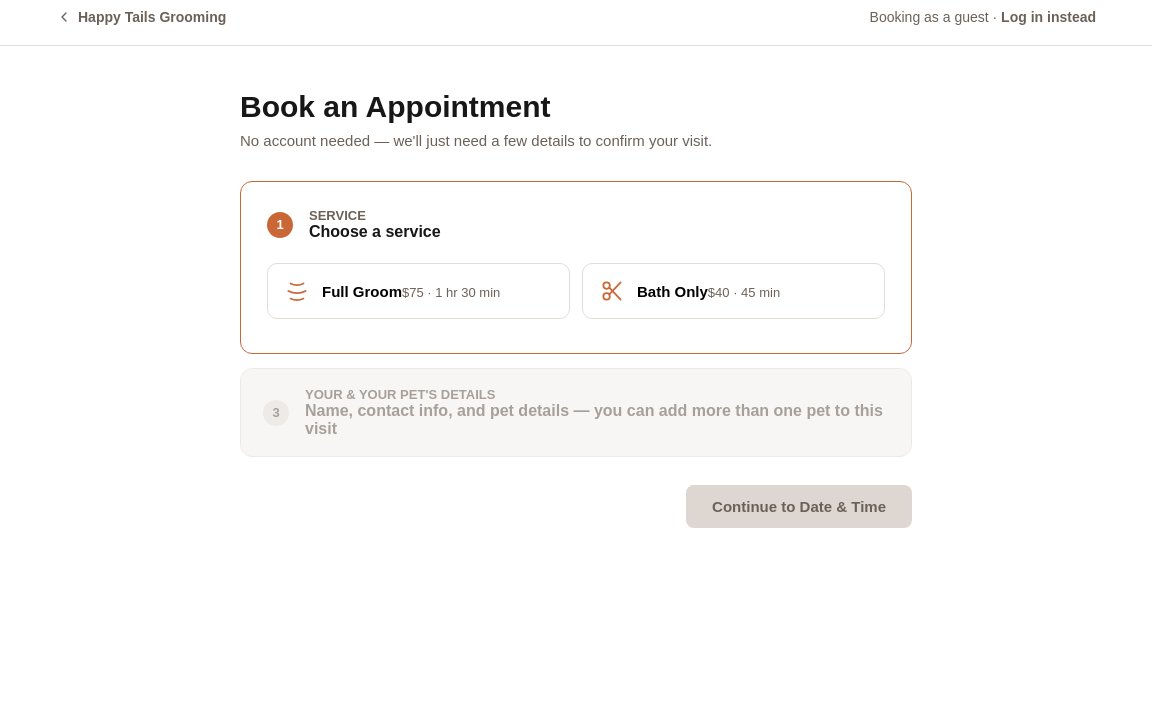
Test: BookingWizard — step state transitions › changing to a different service after a slot was chosen clears the previously selected slot
Click the button "Full Groom$75 · 1 hr 30 min" at (418, 291), box [267,263,570,319]
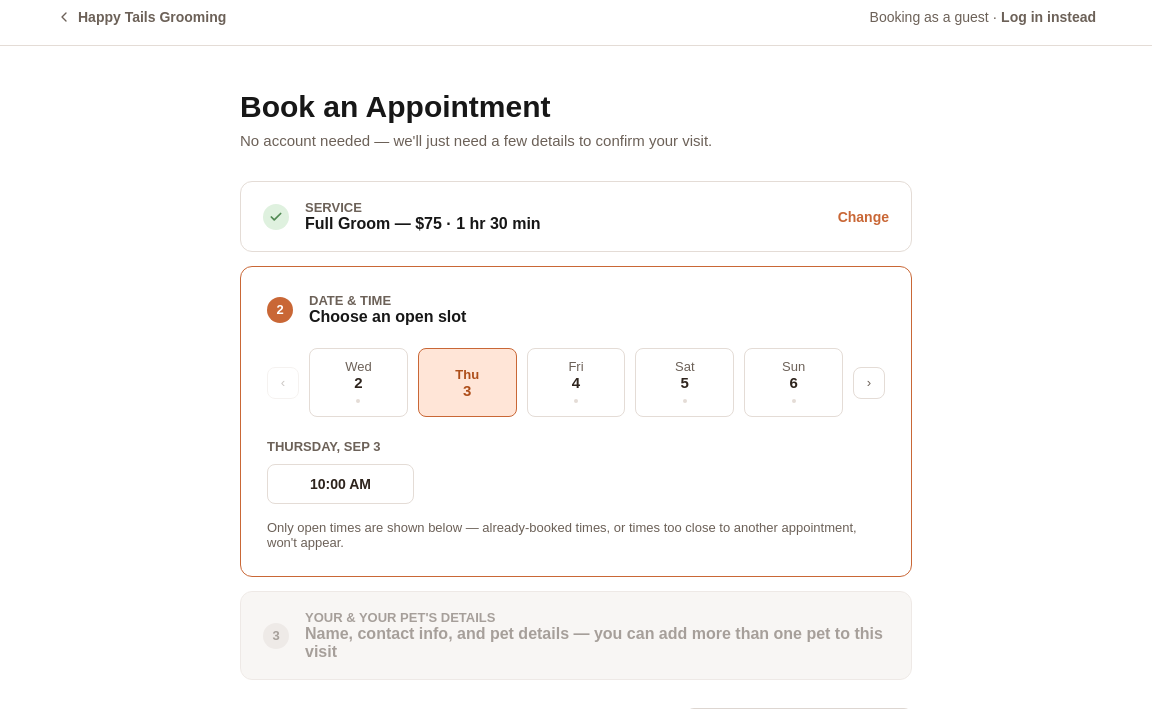
Click the button "10:00 AM" at (340, 484), box [267,464,414,504]
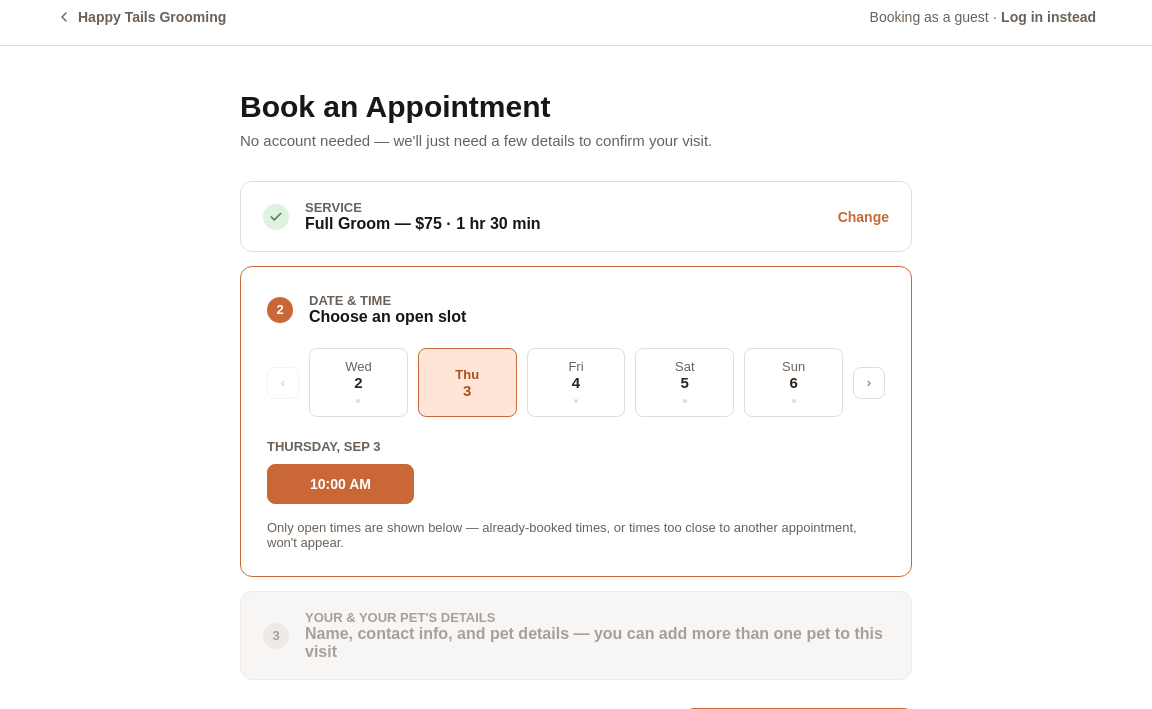
Click the button with test id "booking-wizard-change-service-button" at (863, 216), box [838,208,889,224]
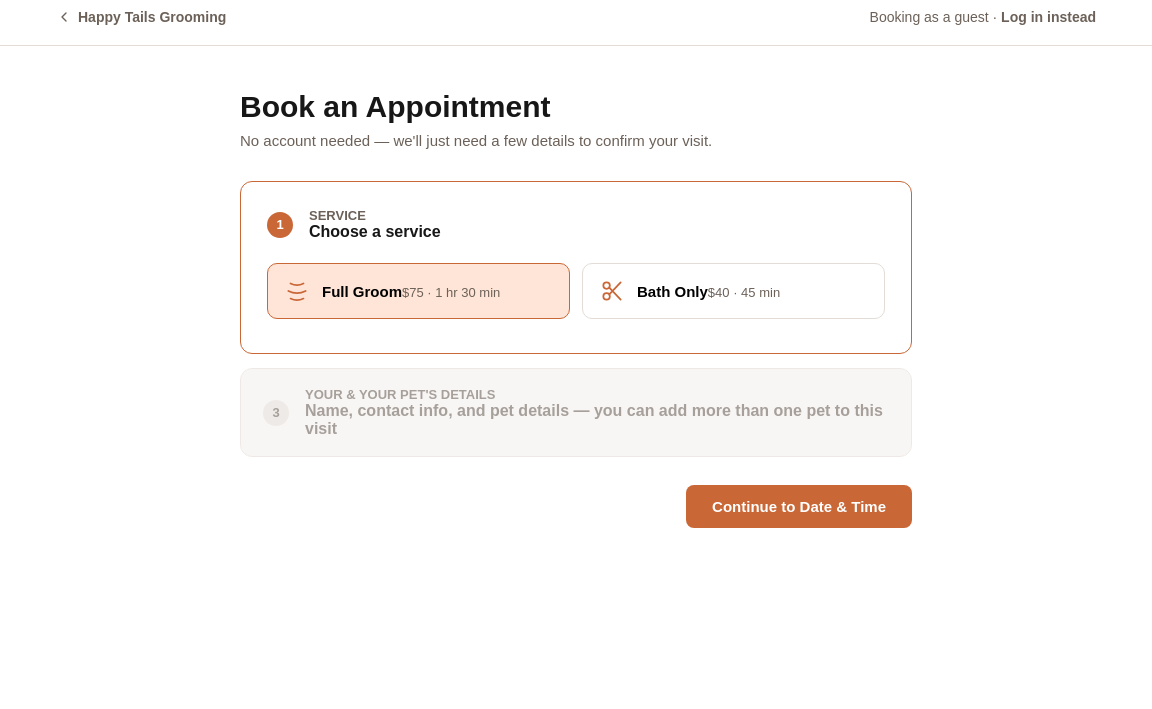
Click the button "Bath Only$40 · 45 min" at (734, 291), box [582,263,885,319]
(page scrolled)
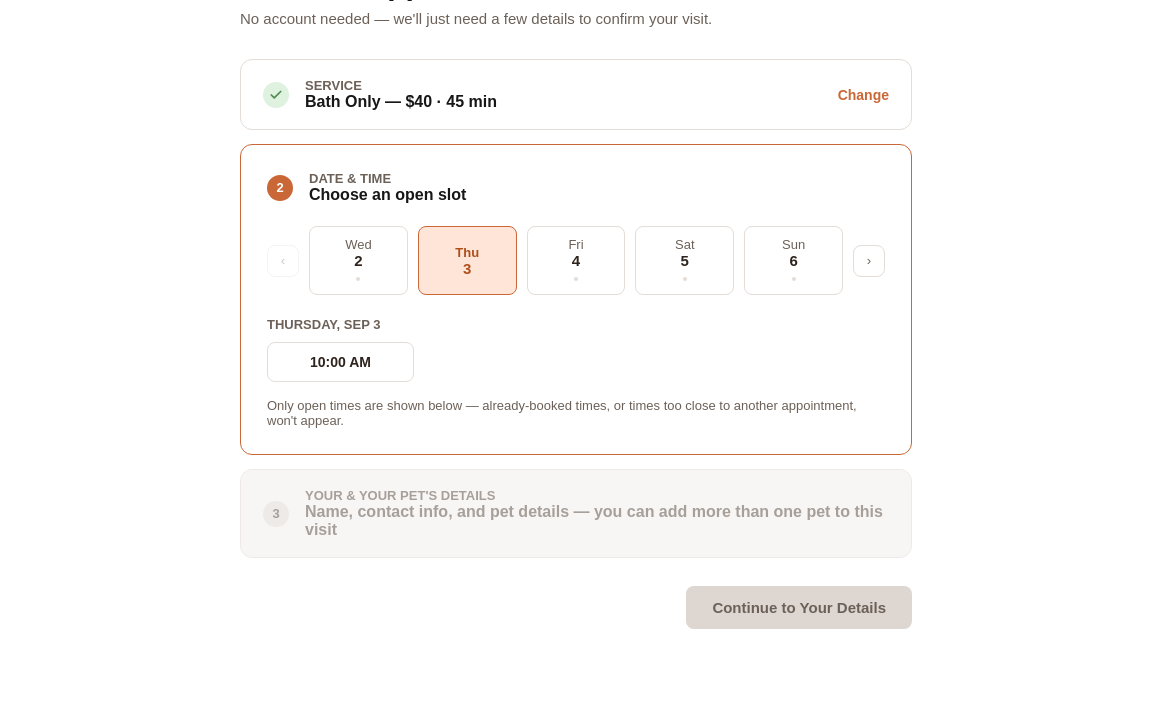
Result: the button with test id "booking-wizard-continue-to-details-button" is disabled at [686,586,912,629]
